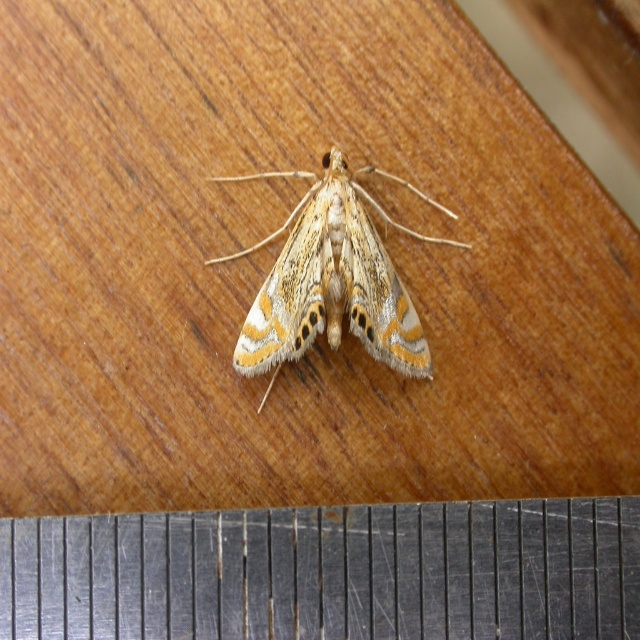Moths and butterflies: (204, 145, 476, 417)
